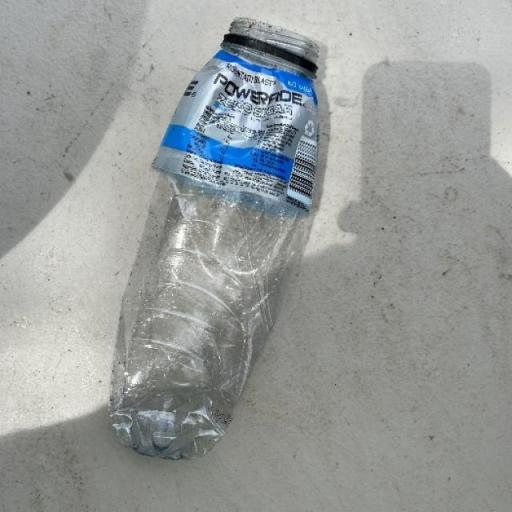plastic: (106, 16, 321, 460)
